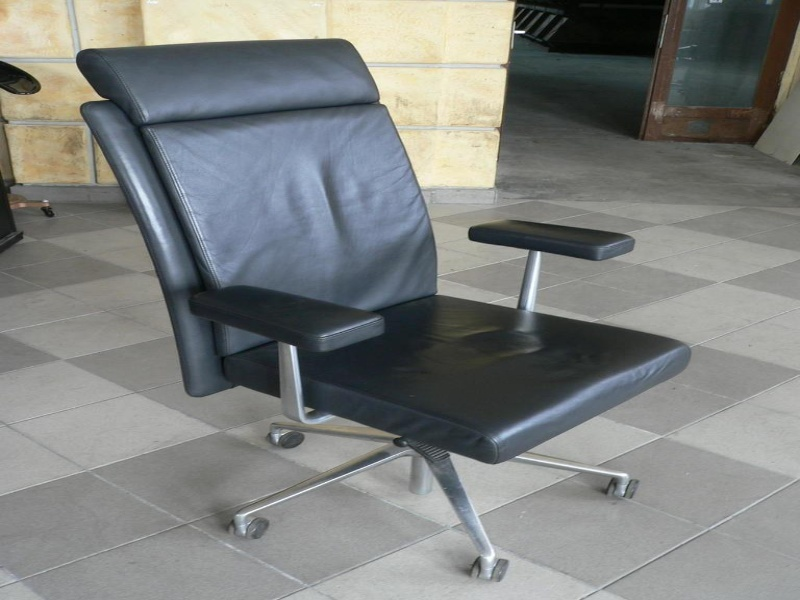chair: (73, 30, 703, 582)
